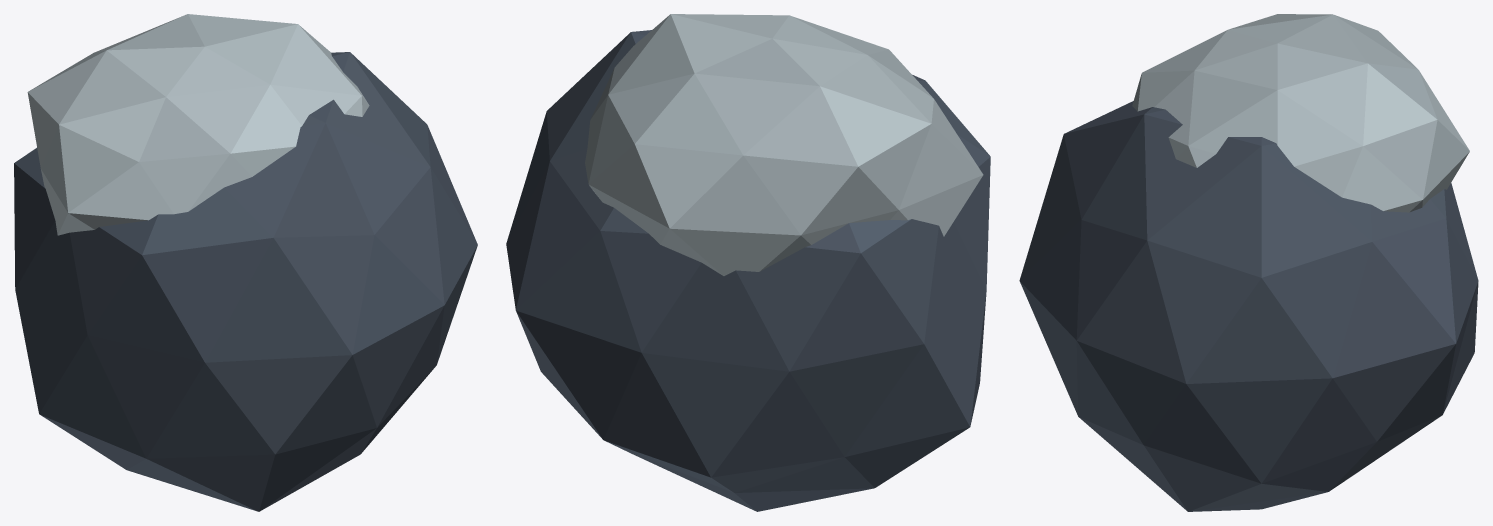
Rendered from glacier-rock-3.glb.
The picture shows the model from 3 angles, left to right: view 1: azimuth 30°, elevation 25°; view 2: azimuth 150°, elevation 25°; view 3: azimuth 270°, elevation 25°; orthographic projection. The views are drawn at different scales.
Parts seen in each view (by area): view 1: glacier-rock-3; view 2: glacier-rock-3; view 3: glacier-rock-3.
Part boxes in pixels (bbox=[...]): glacier-rock-3: bbox=[14, 14, 477, 511]; glacier-rock-3: bbox=[506, 14, 990, 511]; glacier-rock-3: bbox=[1019, 14, 1478, 511].
Size of the model in its own units: 1.49 by 1.57 by 1.44.
